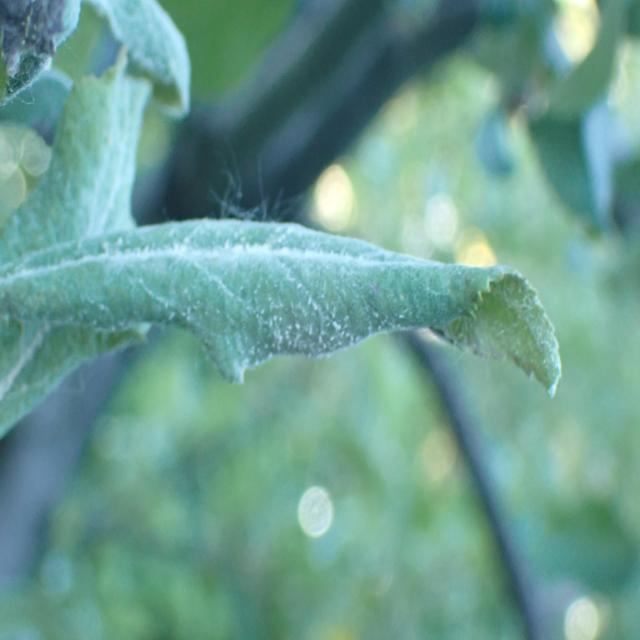Powdery_mildew: (1, 200, 568, 466), (0, 54, 148, 297), (29, 0, 213, 131)
